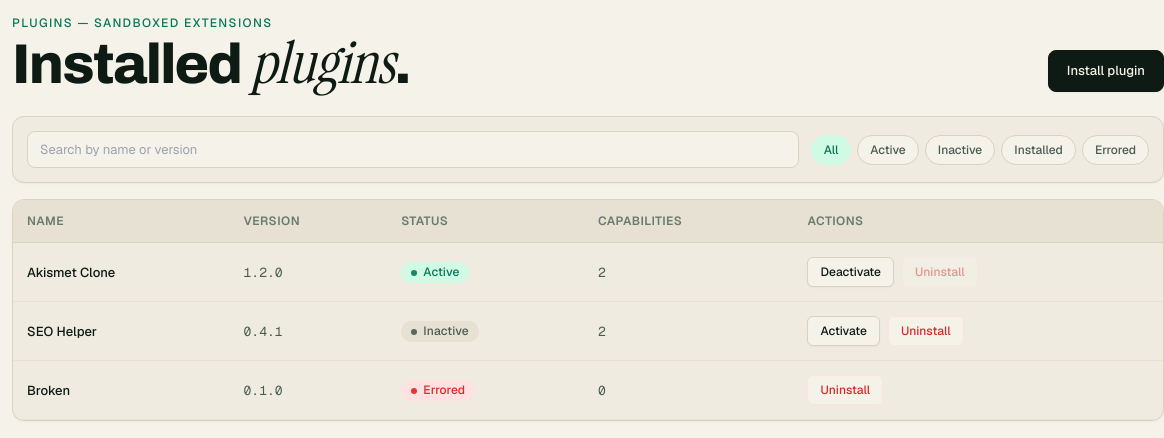
PluginListClient › filters plugins by status
Click the button "Inactive" at coordinates (960, 150), box top-left (925, 135), bottom-right (995, 165)
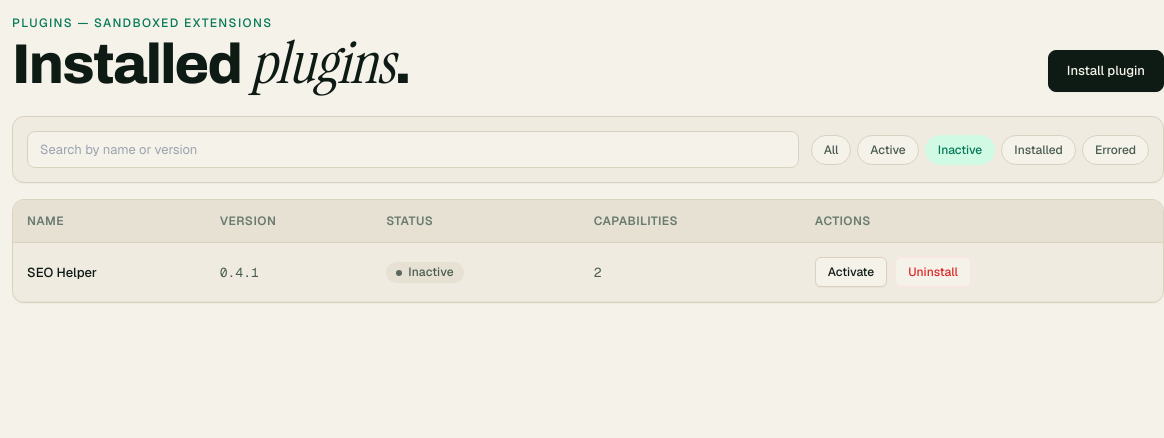
Check: the link "SEO Helper" is shown, box top-left (27, 264), bottom-right (97, 281)
Check: the link "Akismet Clone" is gone
